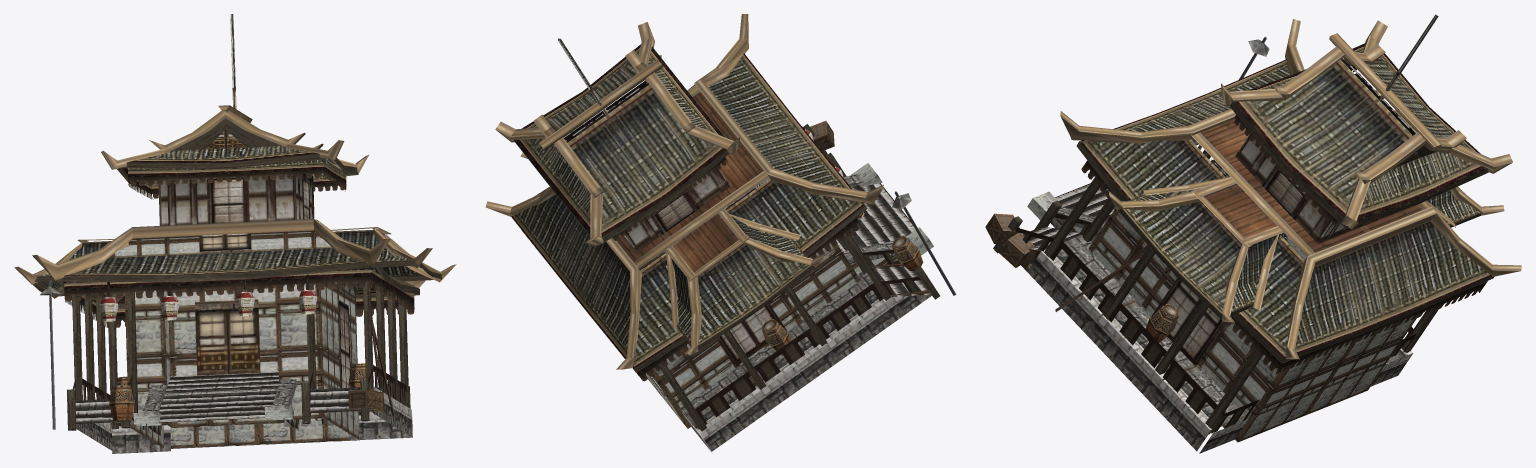
The model's file is japan_dojo.fbx.
The picture shows the model from 3 angles, left to right: view 1: azimuth 30°, elevation 25°; view 2: azimuth 150°, elevation 25°; view 3: azimuth 270°, elevation 25°; orthographic projection. The views are drawn at different scales.
Visible parts, largest first — view 1: Object01, Object03, Object02; view 2: Object01, Object03, Object02; view 3: Object01, Object03, Object02.
Boxes of the visible parts, box(x1,y1,x2,y2) form: Object01: box(14, 14, 456, 453); Object03: box(57, 118, 419, 309); Object02: box(40, 274, 395, 429); Object01: box(485, 14, 939, 452); Object03: box(511, 44, 867, 372); Object02: box(761, 120, 956, 351); Object01: box(993, 14, 1521, 453); Object03: box(1076, 43, 1494, 362); Object02: box(985, 36, 1269, 342).
Bounding box in the file's own units: 12.23 × 12.15 × 10.85.
2 materials, 2 textured.
